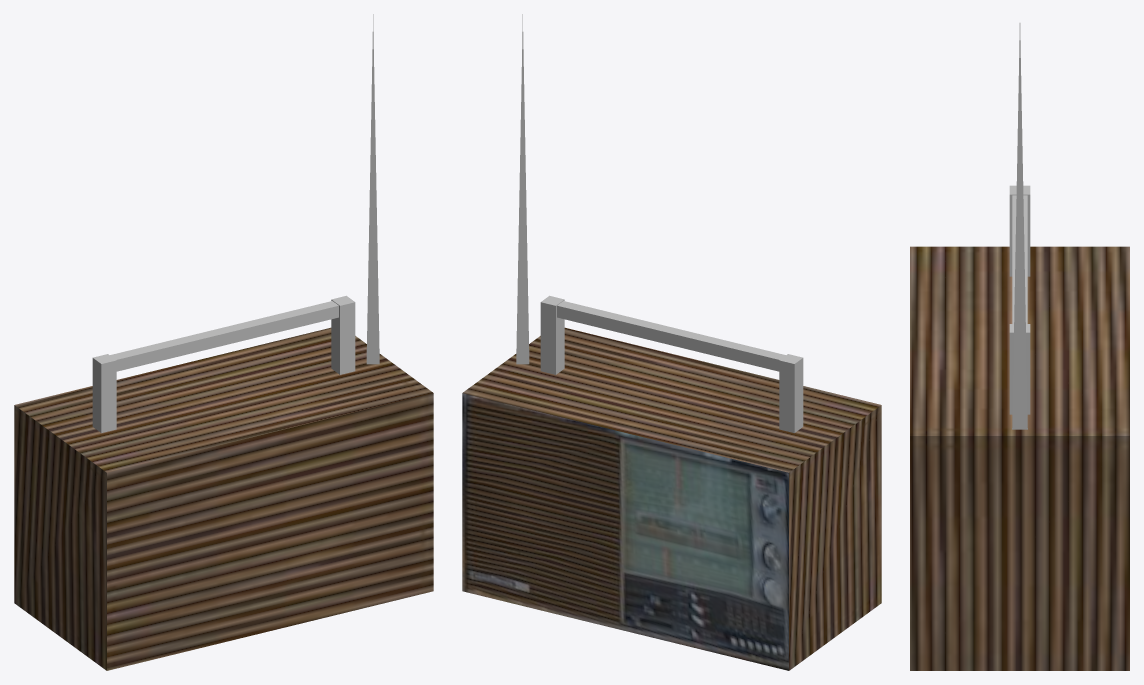
File: RADIO.fbx
3 renders of one model, left to right at view 1: azimuth 30°, elevation 25°; view 2: azimuth 150°, elevation 25°; view 3: azimuth 270°, elevation 25°, orthographic. The views are drawn at different scales.
Visible parts, largest first — view 1: Radio; view 2: Radio; view 3: Radio.
Part boxes in pixels (<box>): Radio: <box>14,14,433,670</box>; Radio: <box>462,14,881,670</box>; Radio: <box>910,23,1129,670</box>.
Bounding box in the file's own units: 63.74 × 102 × 31.3.
